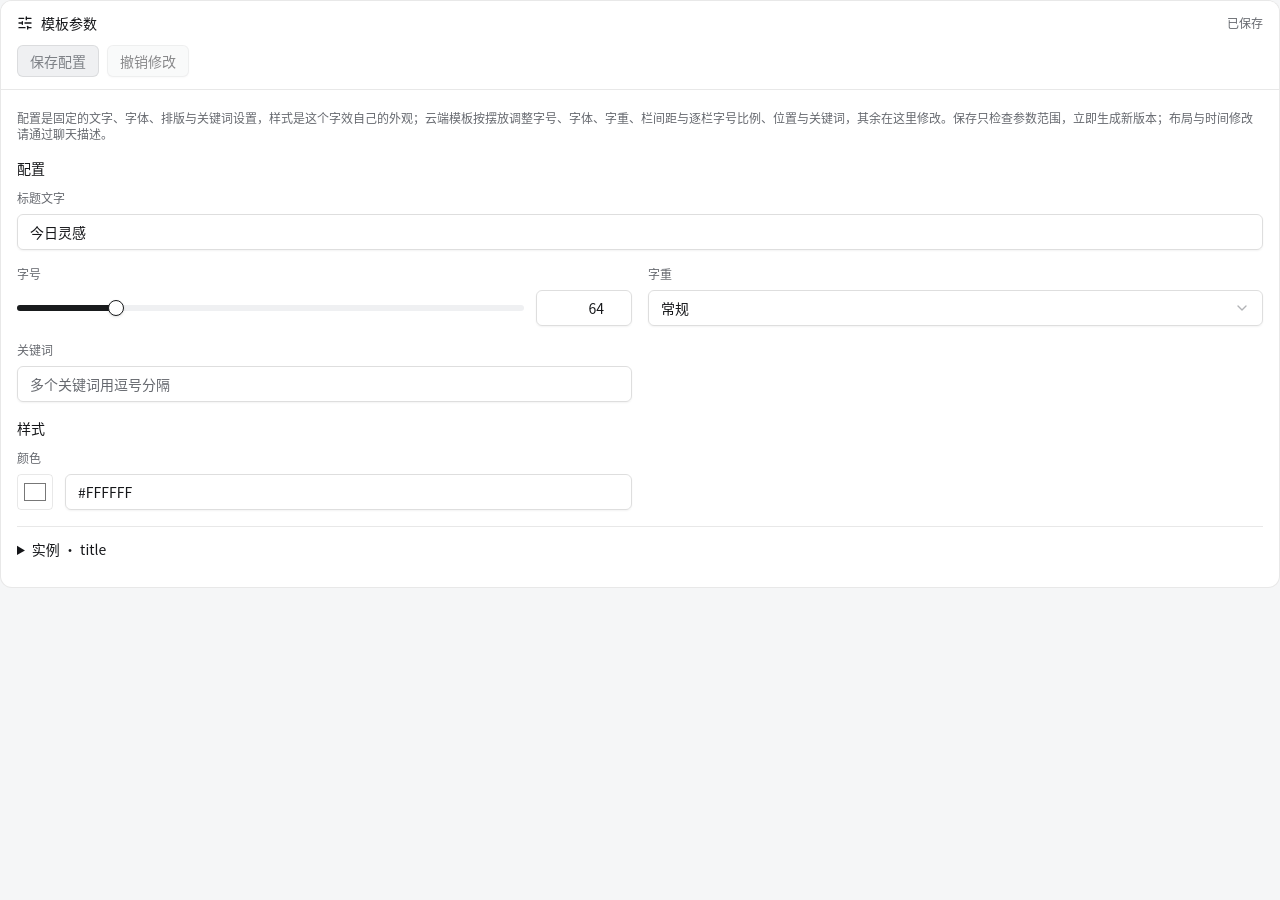
Scenario: 超出范围、长度或项数的输入只留在表单并提示
The width and height of the screenshot is (1280, 900).
Replace the text in the number field labelled "字号" with "999". click: (584, 308)
box: top-left (536, 290), bottom-right (632, 326)
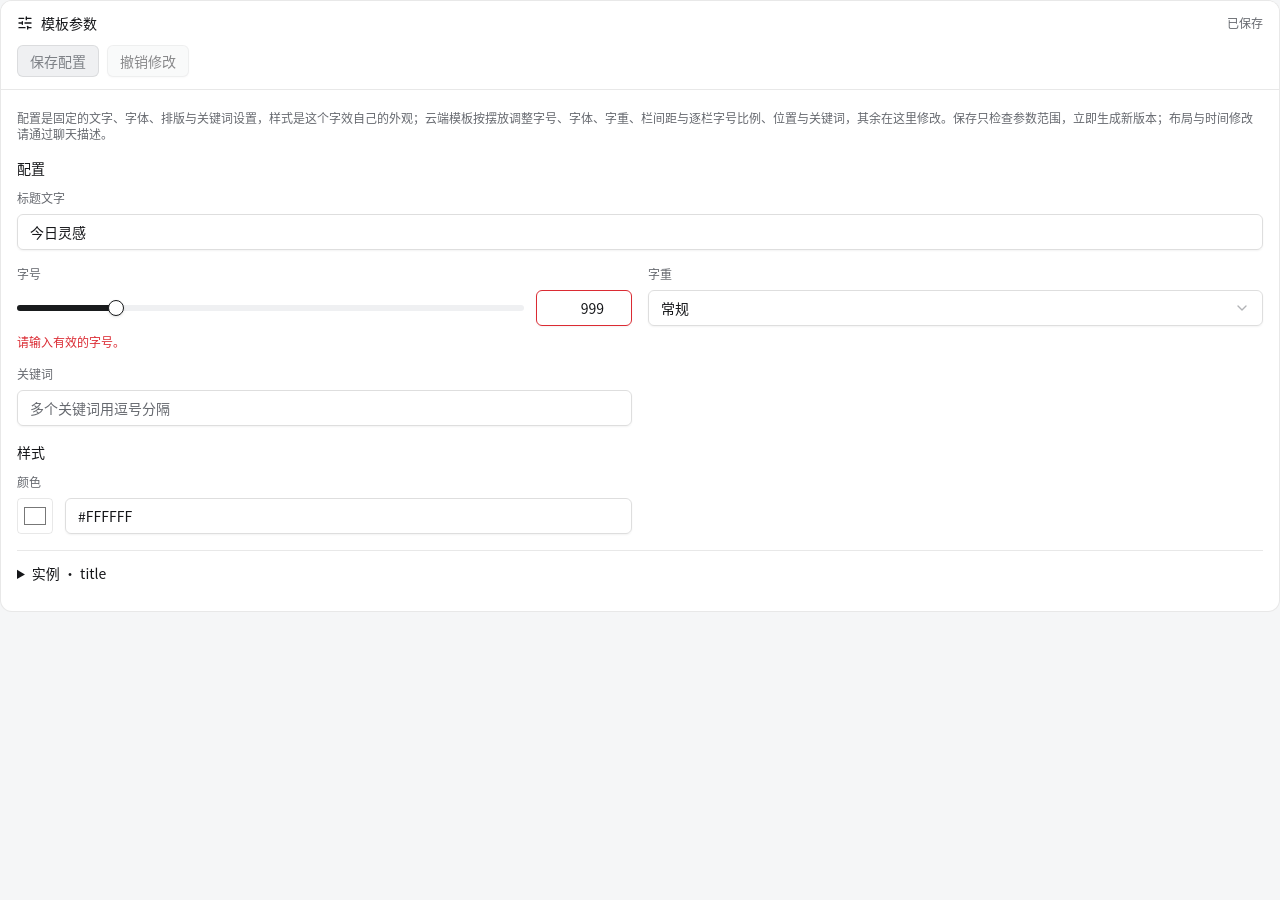
Clear the field labelled "标题文字". click: (640, 232)
box: top-left (17, 214), bottom-right (1263, 250)
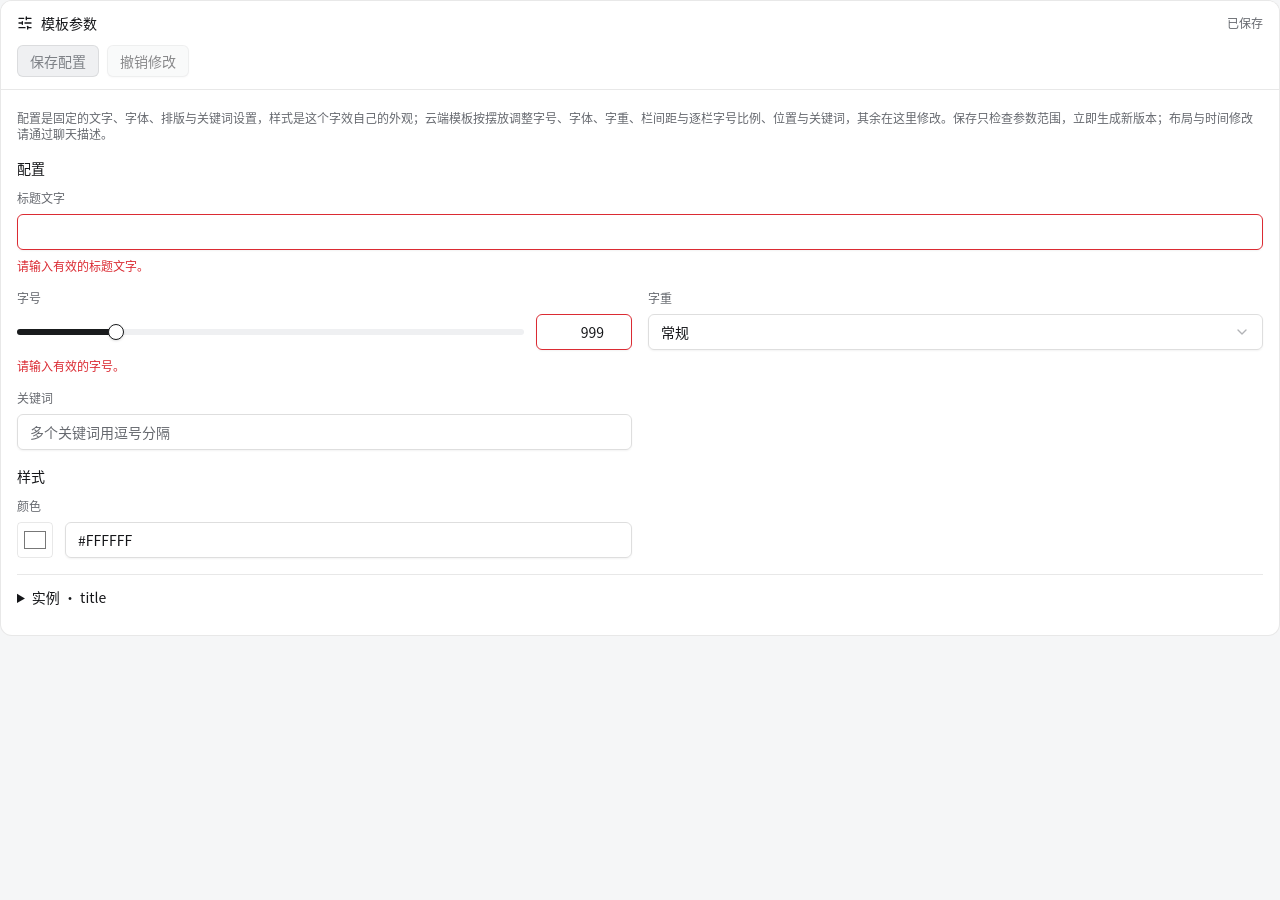
Type "一，二，三" into the field labelled "关键词". click: (324, 432)
box: top-left (17, 414), bottom-right (632, 450)
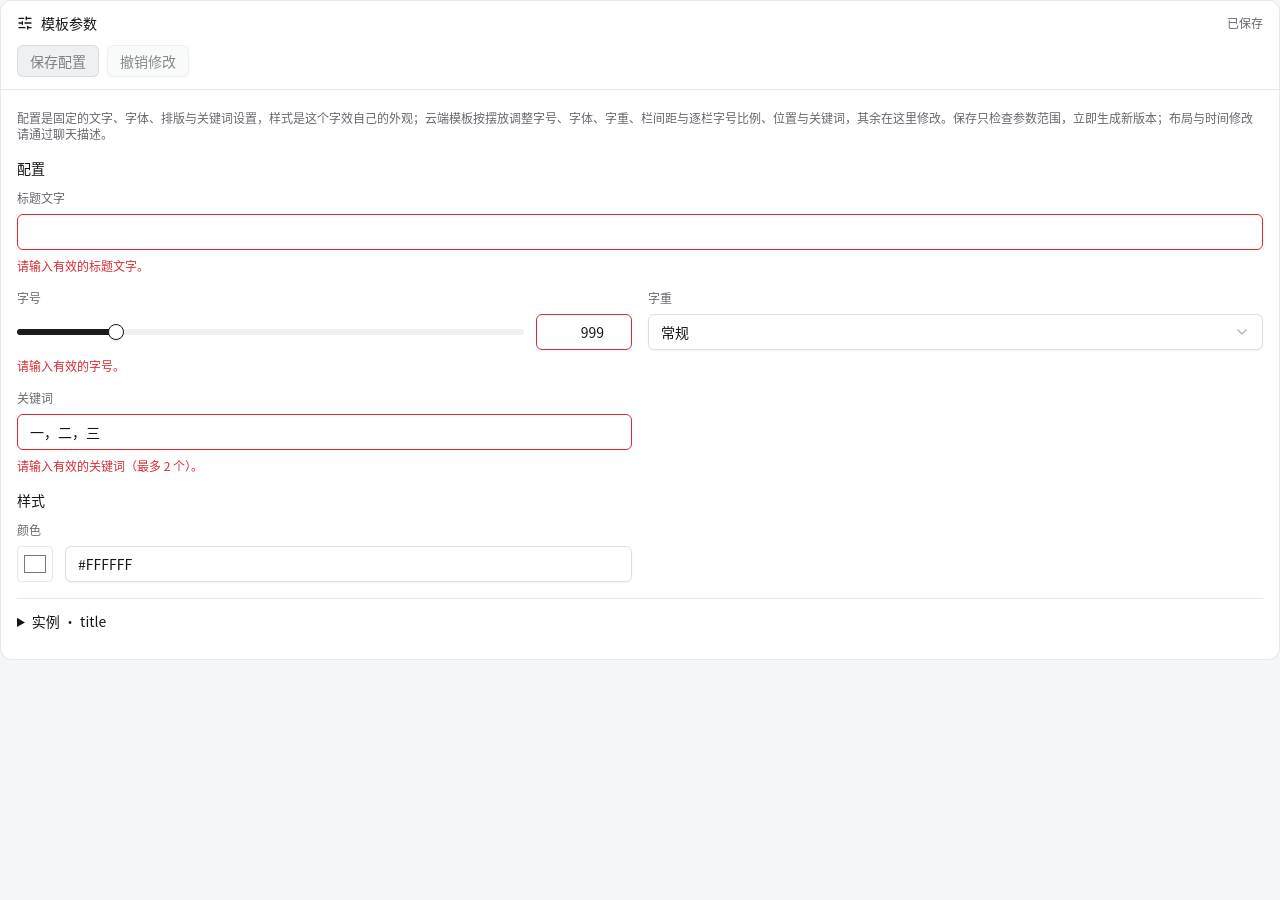
Now the messages read "请输入有效的标题文字。", "请输入有效的字号。", "请输入有效的关键词（最多 2 个）。", in this order, box top-left (17, 257), bottom-right (149, 274); top-left (17, 357), bottom-right (125, 374); top-left (17, 457), bottom-right (203, 474)
